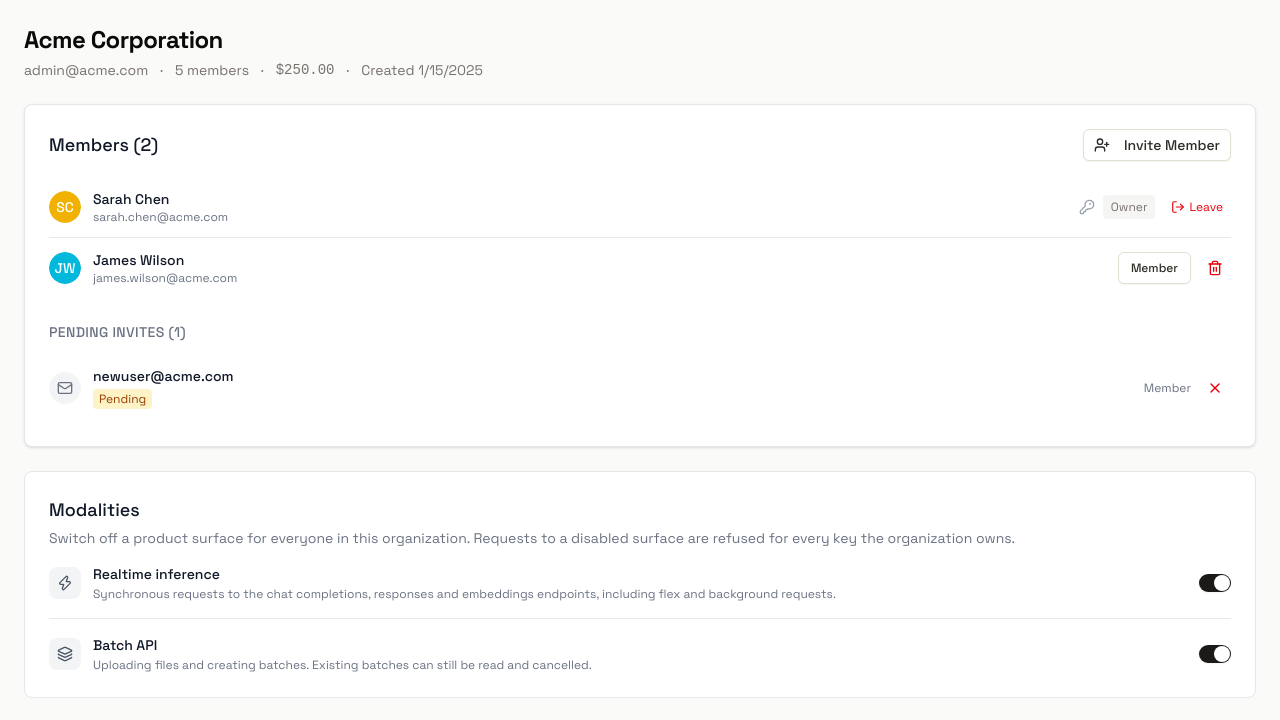
MyOrganization › keeps a modality switch where the owner left it after the refetch
Click the switch named "Batch API". click: (1215, 654)
box: [1199,645,1231,663]
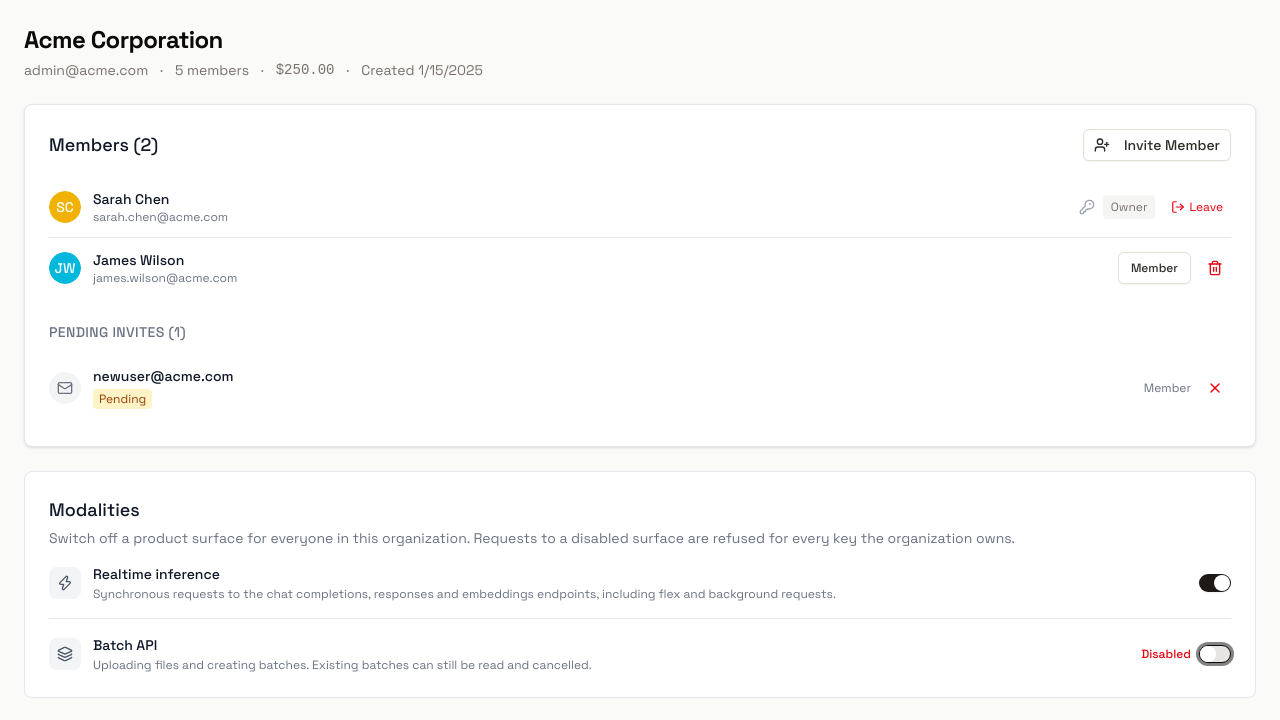
Check: the switch named "Batch API" is not checked
Click the switch named "Batch API". click: (1215, 654)
box: [1199,645,1231,663]
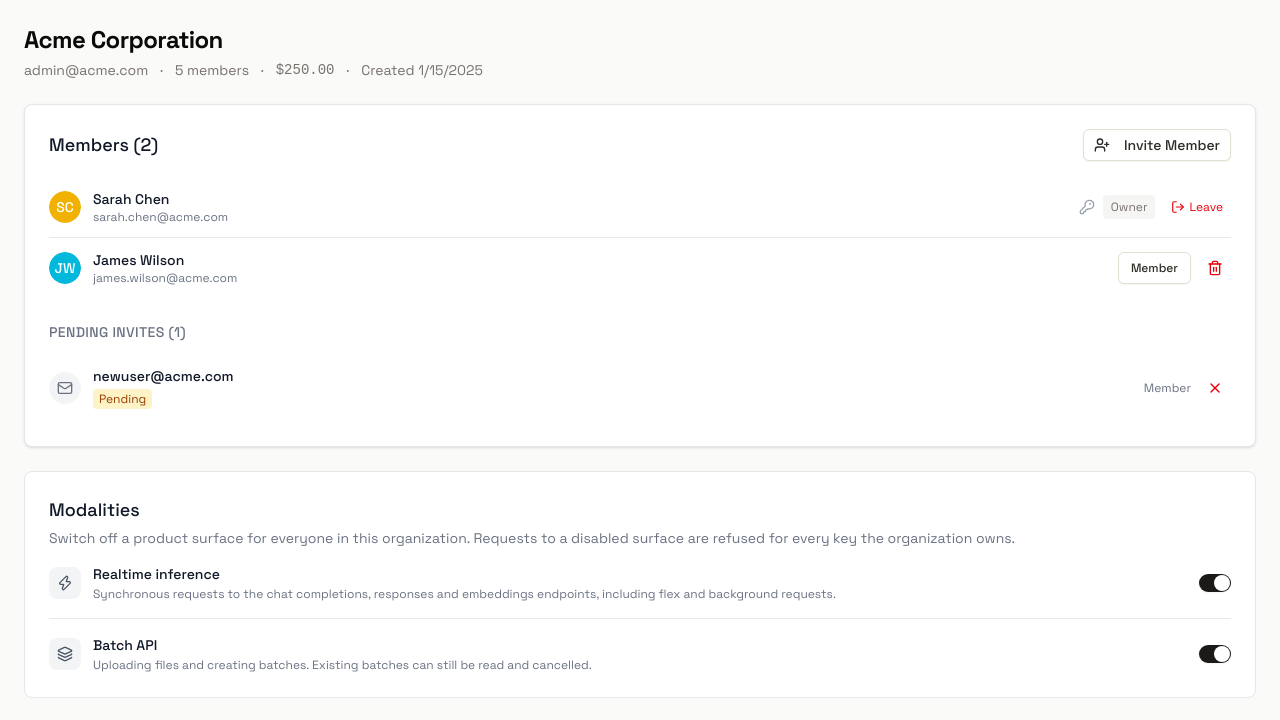
Check: the switch named "Batch API" is checked, box [1199,645,1231,663]
